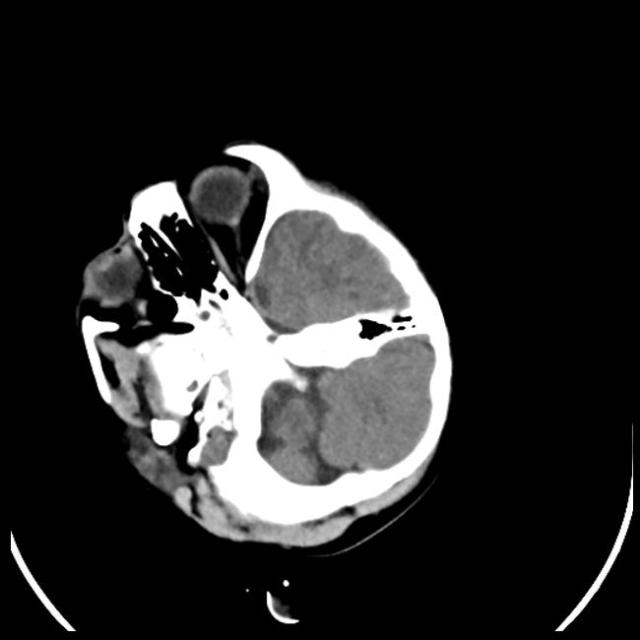lesion: (71, 135, 458, 553)
